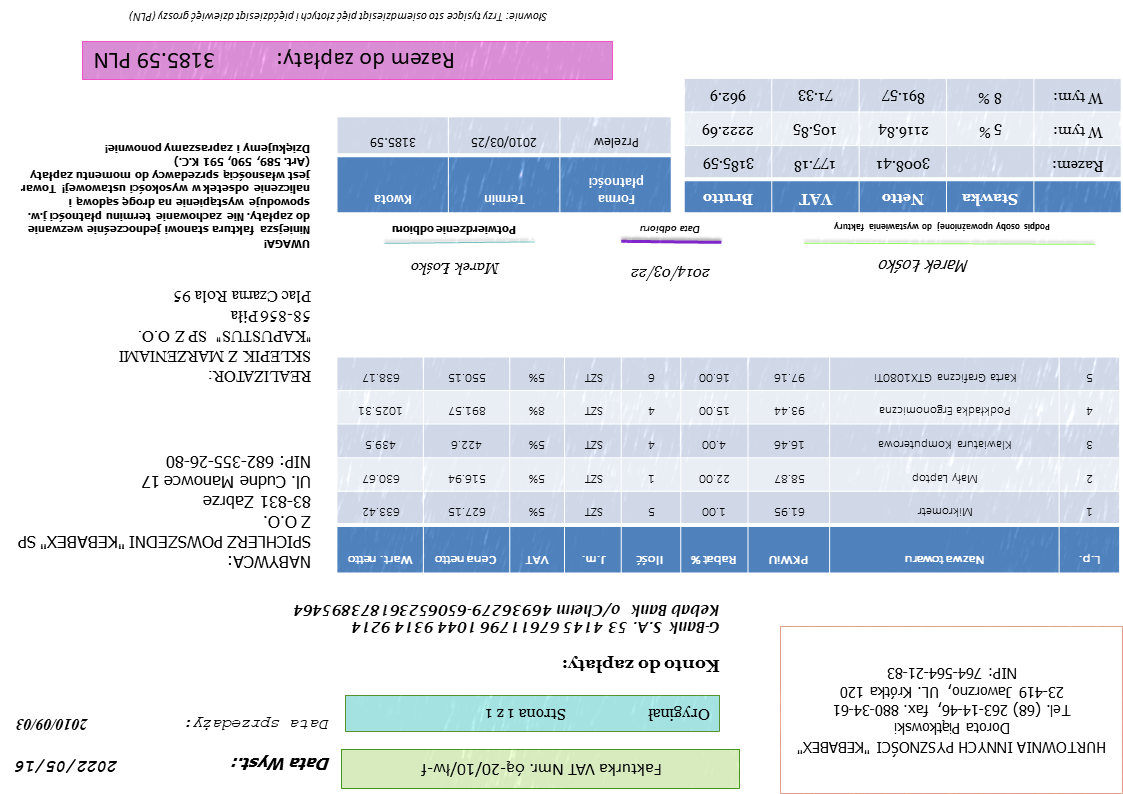Table: (336, 356, 1121, 574), (682, 77, 1122, 214), (336, 116, 673, 214)
TextBox: (15, 452, 315, 571), (18, 140, 314, 253), (794, 662, 1108, 758), (115, 287, 314, 387), (292, 599, 723, 637), (91, 46, 457, 73), (126, 7, 550, 26), (420, 759, 665, 781), (483, 705, 712, 724), (559, 653, 724, 678), (830, 219, 1055, 236), (185, 716, 332, 733), (14, 756, 122, 777), (228, 755, 333, 775), (388, 222, 519, 238), (876, 257, 970, 277), (627, 262, 714, 283), (409, 258, 502, 277), (16, 717, 91, 733), (638, 222, 704, 238)
